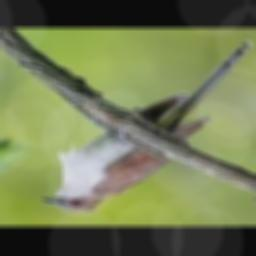Cuckoo: (42, 42, 252, 213)
